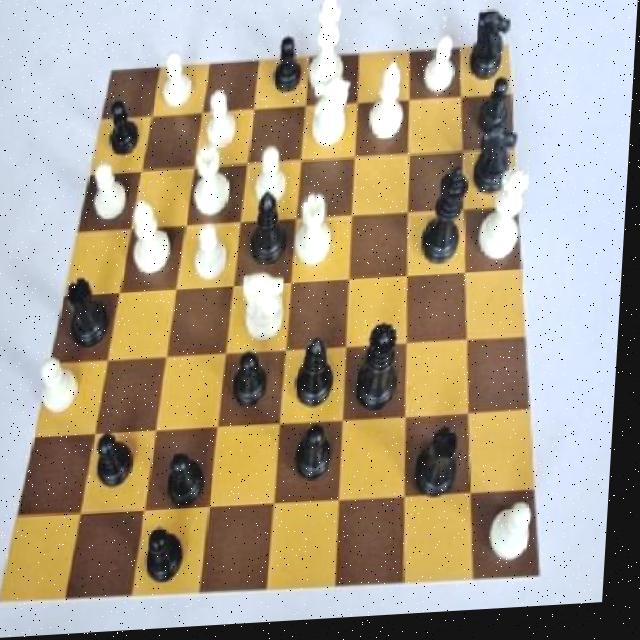bishop: (292, 334, 349, 421), (248, 186, 296, 276)
black-bishop: (419, 159, 474, 280)
black-king: (472, 118, 526, 205), (465, 5, 515, 97)
black-knight: (95, 420, 146, 503), (144, 520, 198, 593), (167, 446, 219, 514), (296, 417, 342, 492), (232, 346, 279, 419), (101, 91, 148, 162), (268, 32, 312, 103), (475, 79, 521, 145)
black-pawn: (355, 317, 417, 424)
black-queen: (410, 420, 474, 517), (62, 272, 127, 356)
black-rook: (127, 191, 181, 282), (364, 56, 414, 153)
white-bishop: (304, 0, 361, 99)
white-king: (235, 267, 298, 356), (307, 77, 357, 162)
white-knight: (491, 495, 548, 574), (34, 349, 89, 425), (154, 46, 203, 122), (417, 32, 464, 107), (89, 158, 137, 228), (203, 82, 247, 158), (191, 222, 238, 290), (250, 146, 299, 209)
white-pawn: (476, 162, 537, 276)
white-queen: (189, 139, 242, 223), (294, 190, 342, 276)
